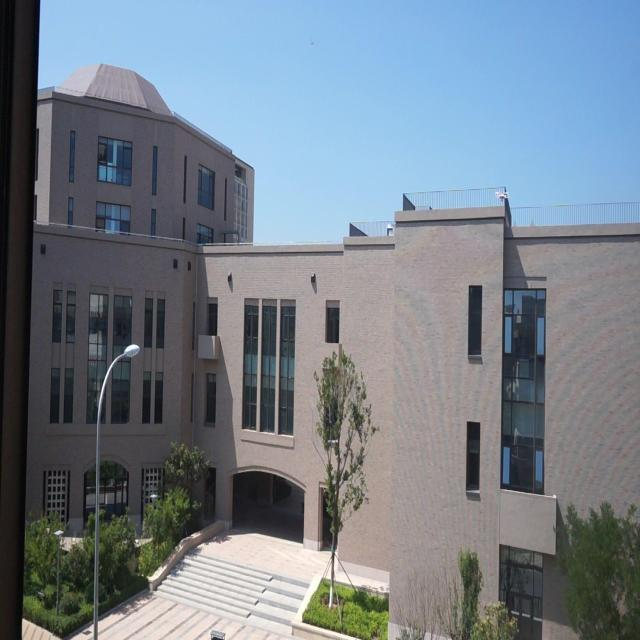drone: (495, 184, 509, 207)
